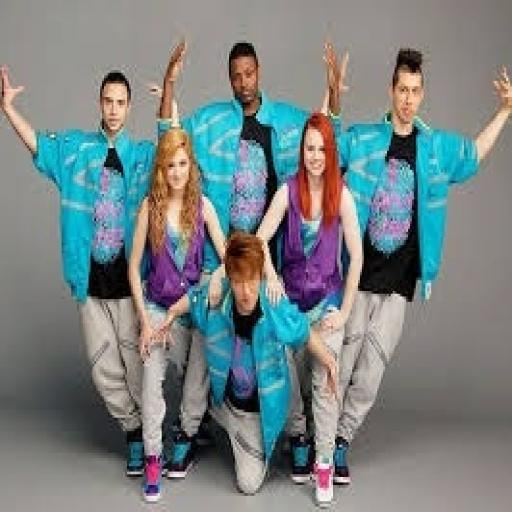dancing: (320, 38, 510, 488), (0, 46, 183, 482)
